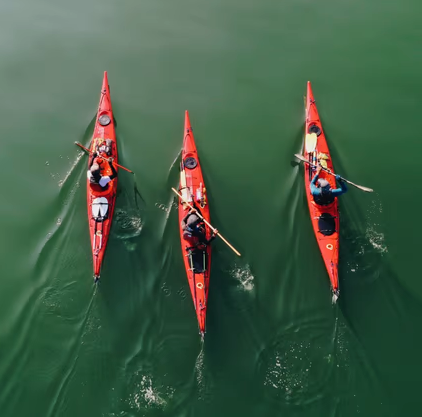kayaker: (289, 79, 375, 309), (165, 109, 243, 341), (72, 70, 137, 287)
